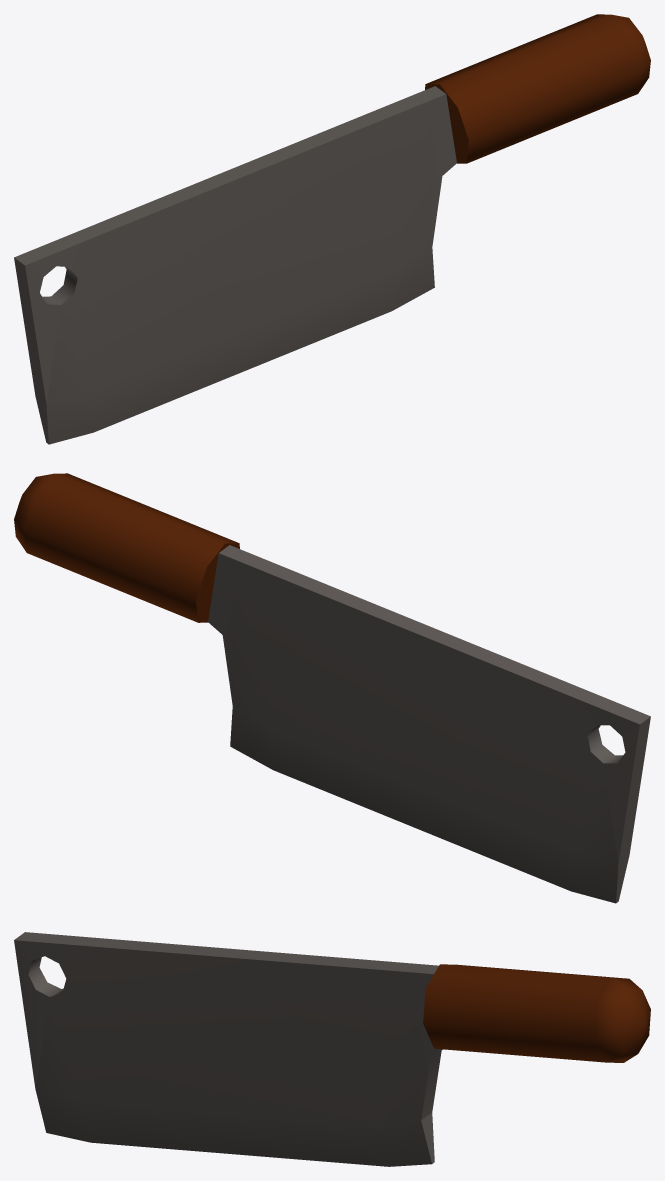
The model's file is Hat_88_02.fbx.
3 views of the same model, one above another, from view 1: azimuth 30°, elevation 25°; view 2: azimuth 150°, elevation 25°; view 3: azimuth 330°, elevation 25° (orthographic).
Visible parts, largest first — view 1: Hat_88_02; view 2: Hat_88_02; view 3: Hat_88_02.
Boxes of the visible parts, x1,y1,x2,y2 form: Hat_88_02: (14,14,650,444); Hat_88_02: (14,473,650,903); Hat_88_02: (14,932,650,1166).
Bounding box in the file's own units: 41.49 × 18.45 × 5.28.
